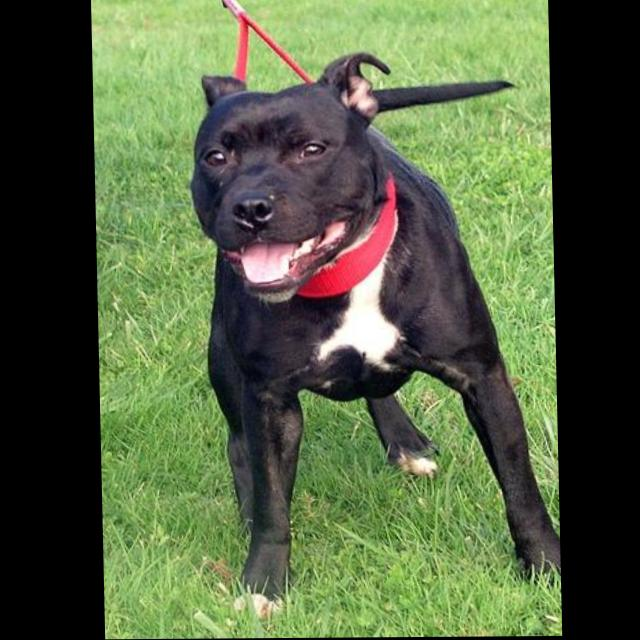staffford: (189, 50, 561, 619)
